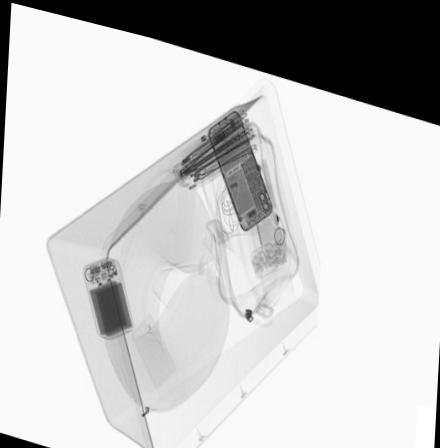Powerbank: (83, 252, 132, 337)
